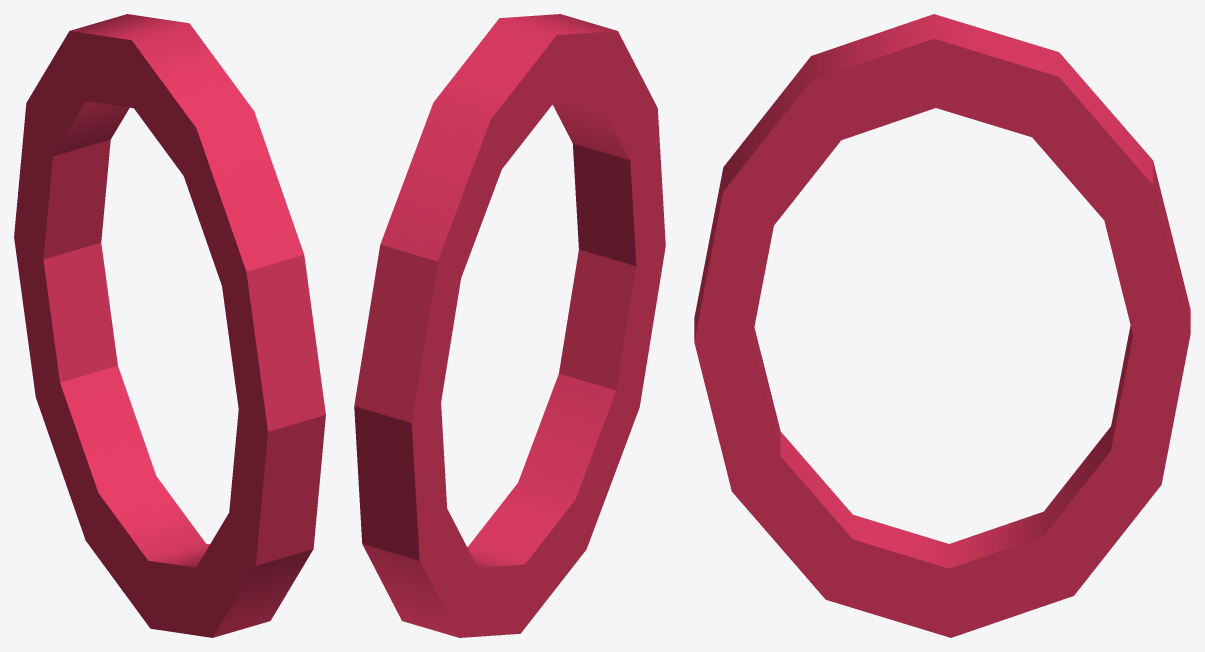
File: opera.glb
The picture shows the model from 3 angles, left to right: view 1: azimuth 30°, elevation 25°; view 2: azimuth 150°, elevation 25°; view 3: azimuth 270°, elevation 25°; orthographic projection. The views are drawn at different scales.
Parts seen in each view (by area): view 1: Circle; view 2: Circle; view 3: Circle.
Boxes of the visible parts, x1=… form: Circle: x1=14, y1=14, x2=325, y2=637; Circle: x1=354, y1=14, x2=665, y2=637; Circle: x1=694, y1=14, x2=1190, y2=637.
Size of the model in its own units: 0.4488 by 3.04 by 2.32.
